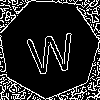W: (24, 23, 78, 76)
